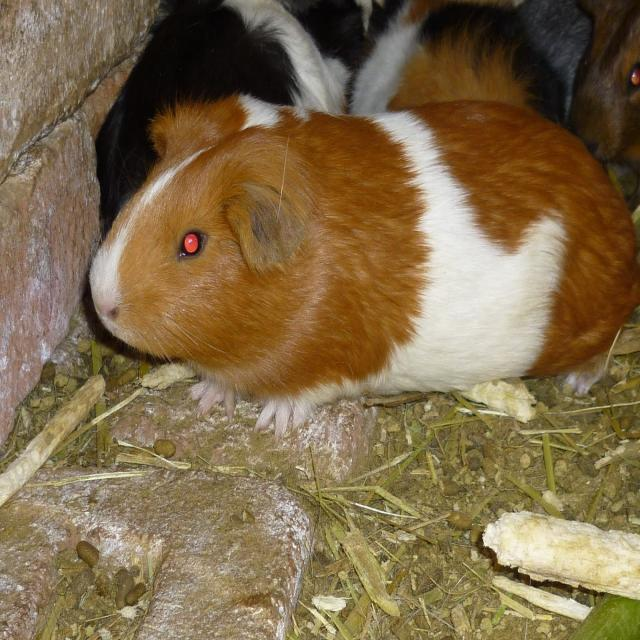guinea pig: (85, 102, 637, 413)
